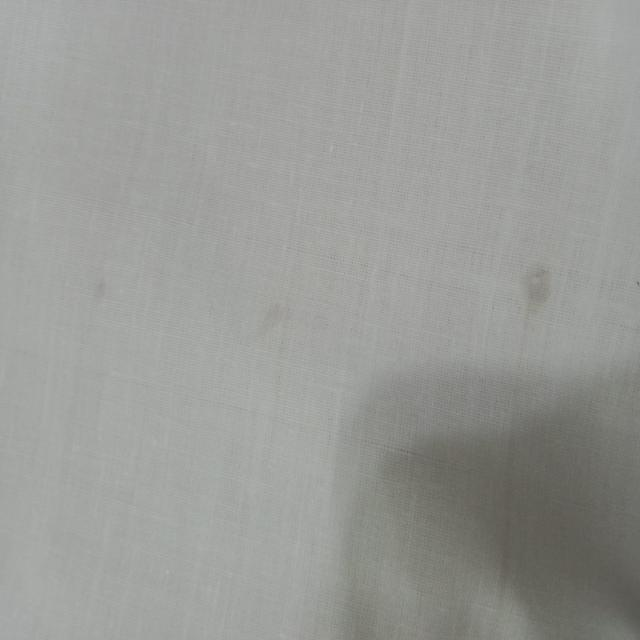stain: (518, 251, 559, 331), (254, 292, 300, 354), (86, 266, 114, 311)
